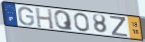8: (92, 14, 108, 35)
G: (17, 7, 36, 27)
H: (34, 6, 55, 30)
O: (73, 13, 91, 33)
Q: (54, 10, 75, 32)
Z: (109, 15, 129, 38)
